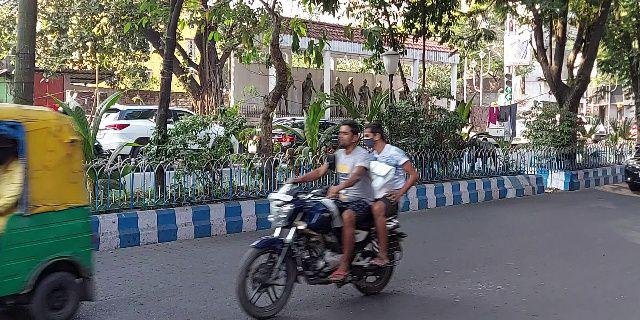Autorickshaw: (1, 102, 99, 319)
Motorbike: (234, 125, 406, 320)
